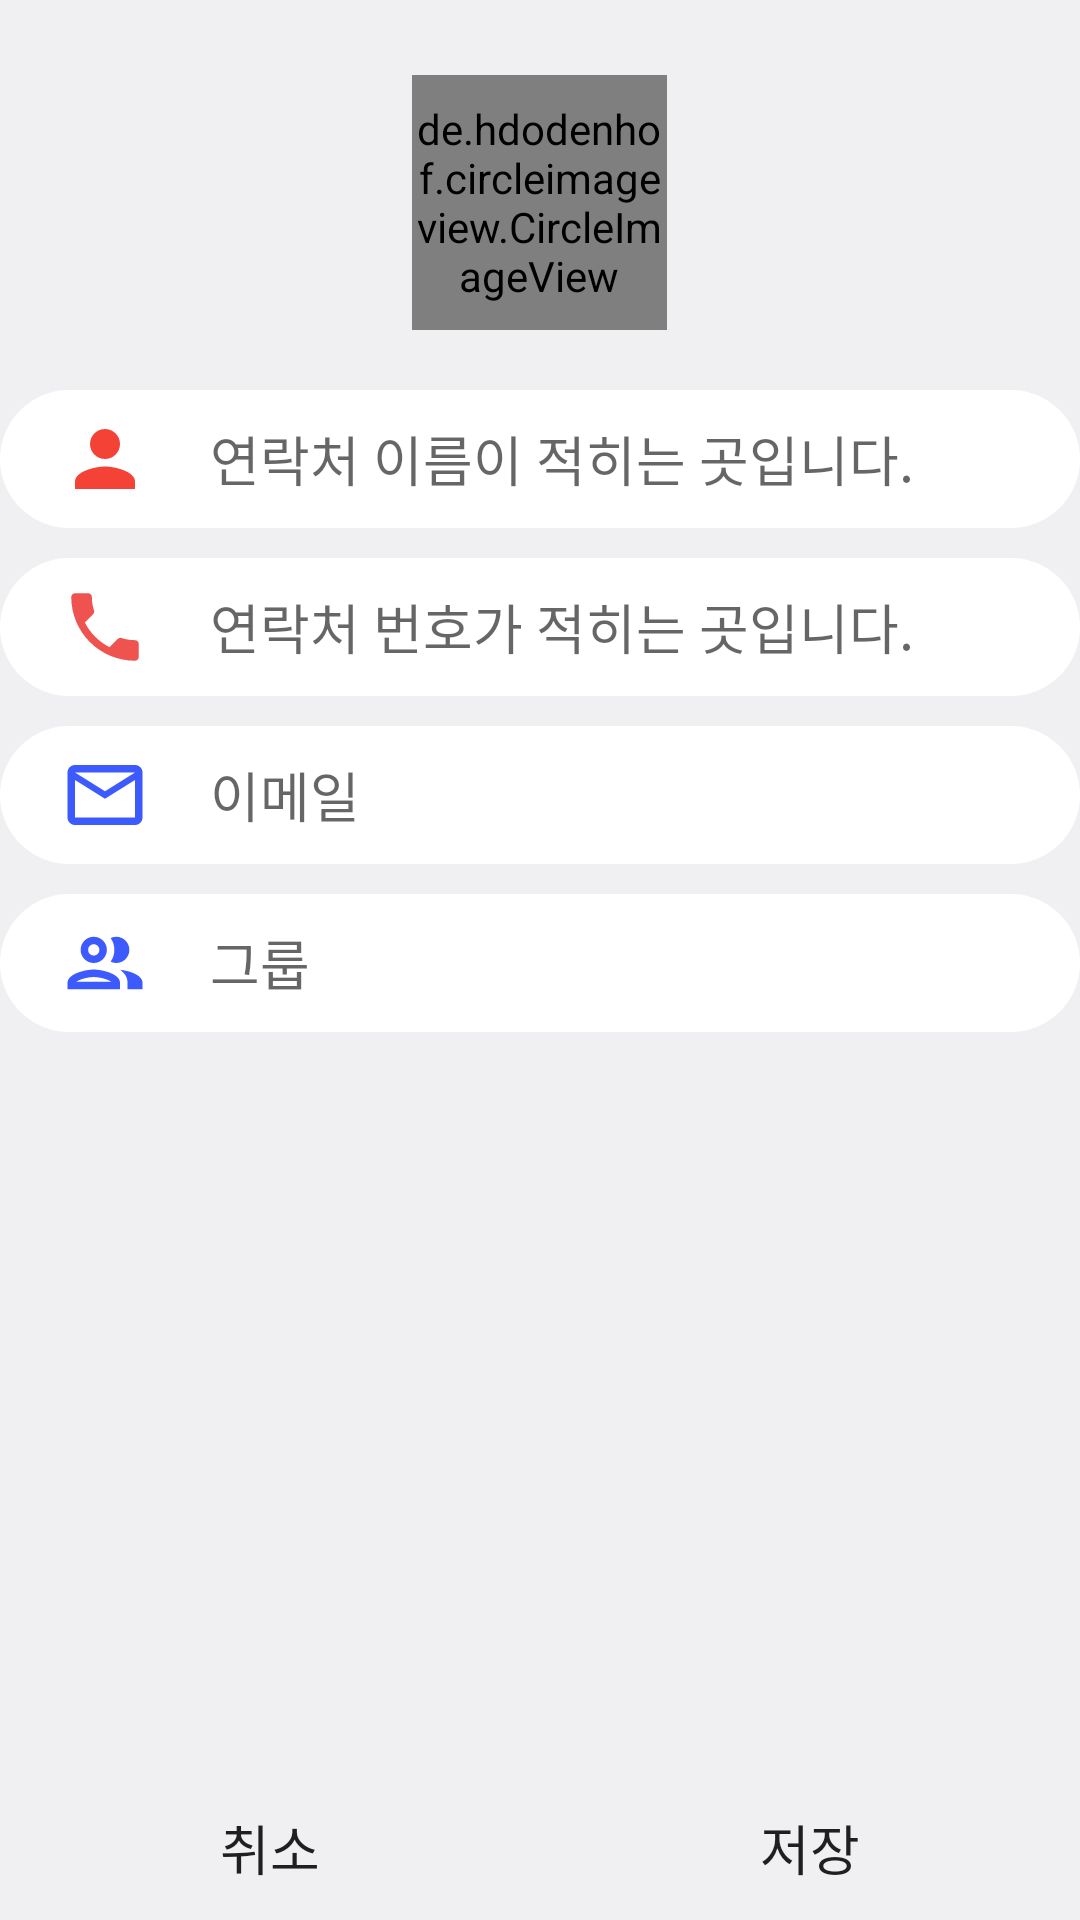

Icon click points for this 1080 x 1920 phone screenshot, format [x,y]:
email indigo: [105,795]
group indigo: [105,963]
person: [105,459]
phone: [105,627]
